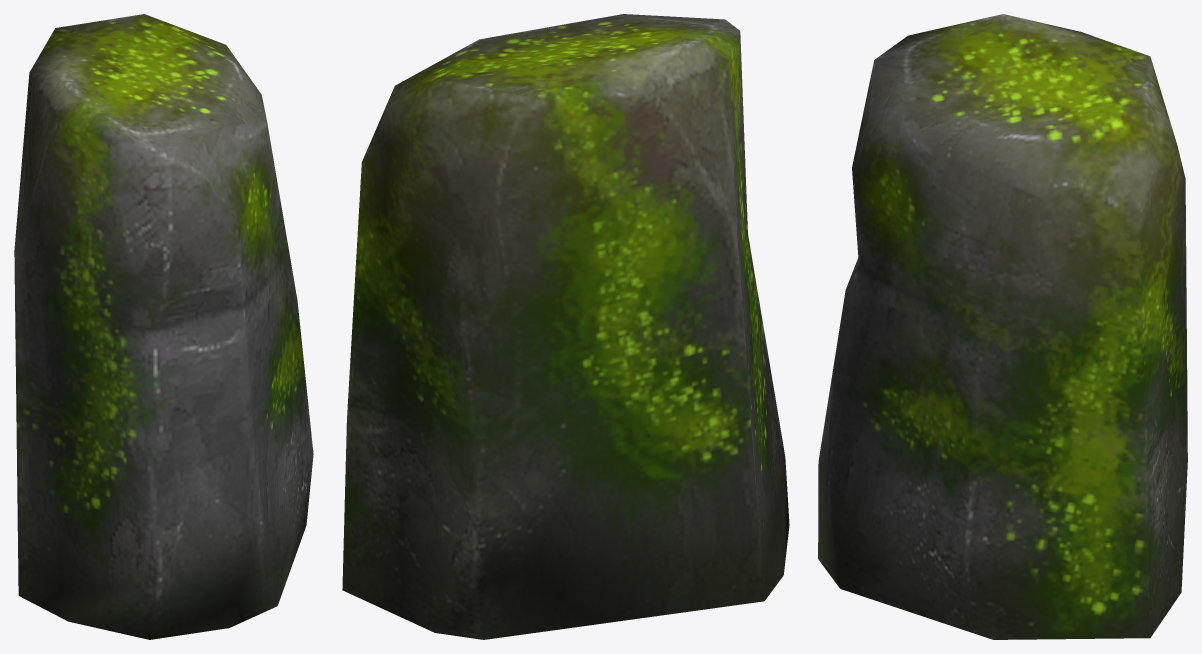
The model's file is rock9.fbx.
3 views of the same model, side by side, from view 1: azimuth 30°, elevation 25°; view 2: azimuth 150°, elevation 25°; view 3: azimuth 270°, elevation 25° (orthographic). The views are drawn at different scales.
Parts seen in each view (by area): view 1: rocks1_8; view 2: rocks1_8; view 3: rocks1_8.
Boxes of the visible parts, bbox=[...] form: rocks1_8: bbox=[14, 14, 313, 639]; rocks1_8: bbox=[342, 14, 789, 639]; rocks1_8: bbox=[818, 14, 1187, 639].
Size of the model in its own units: 247 by 397 by 261.
